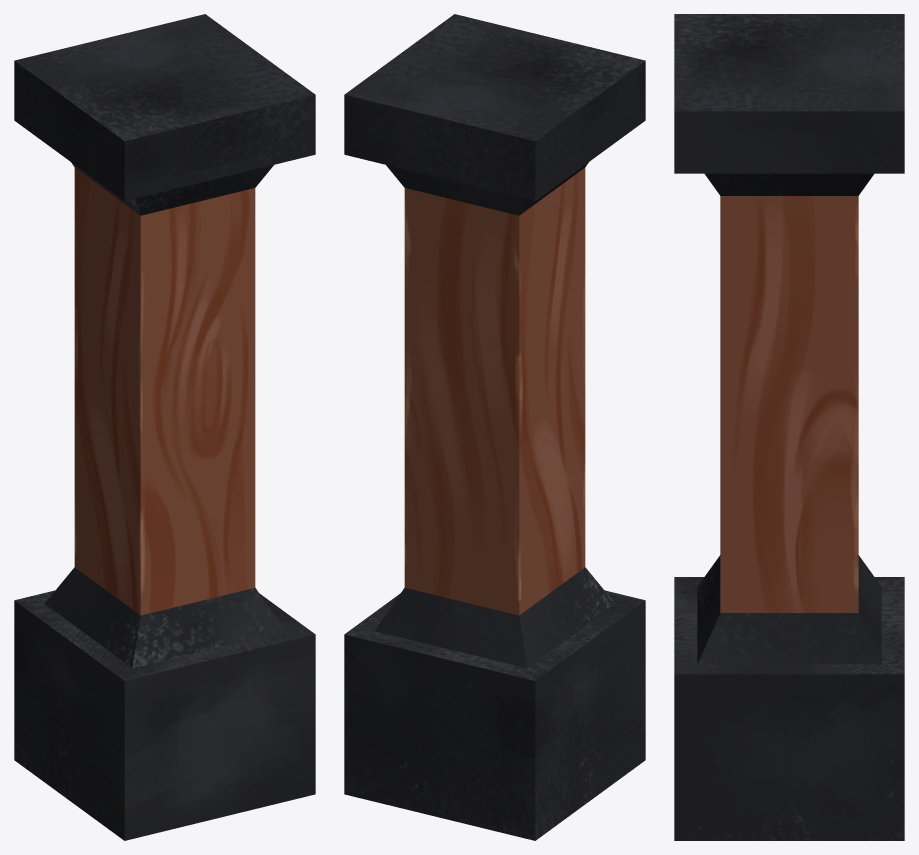
Rendered from pillar.fbx.
3 views of the same model, side by side, from view 1: azimuth 30°, elevation 25°; view 2: azimuth 150°, elevation 25°; view 3: azimuth 270°, elevation 25° (orthographic). The views are drawn at different scales.
Parts seen in each view (by area): view 1: pillar; view 2: pillar; view 3: pillar.
Boxes of the visible parts, x1,y1,x2,y2 form: pillar: (14,14,315,840); pillar: (344,14,645,840); pillar: (674,14,904,840).
Size of the model in its own units: 100 by 350 by 100.
